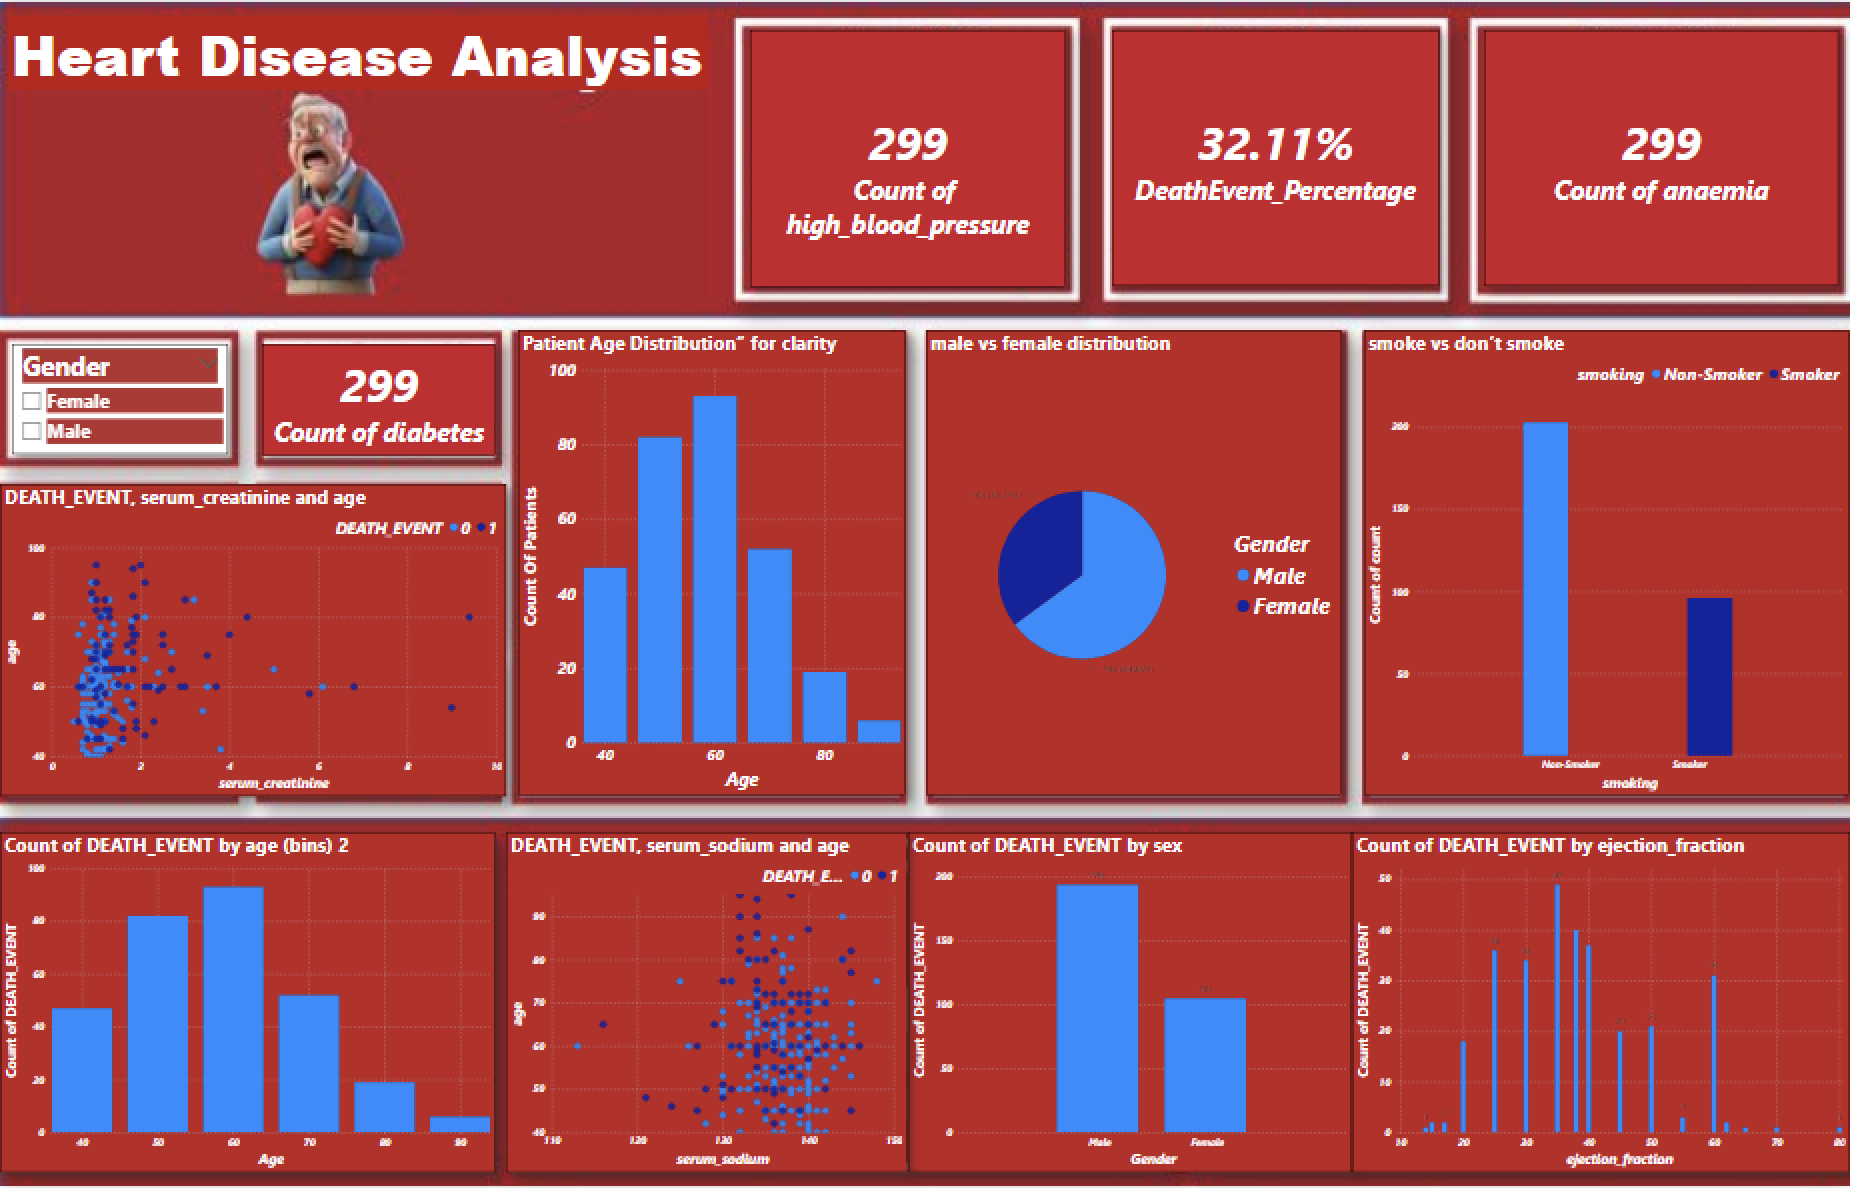

The dashboard page shown, as its layout file describes it:
{"tool":"powerbi","page":{"name":"Page 1","canvas":[2500,1600],"ordinal":0},"visuals":[{"type":"clusteredColumnChart","title":"Patient Age Distribution” for clarity","fields":{"Y":["CountNonNull(heart_Disease_clinical_records_.count)"],"Category":["heart_Disease_clinical_records_.age (bins) 2"]},"box":[700,444.4,524.4,628.9],"z":0},{"type":"pieChart","title":"male vs female distribution","fields":{"Y":["CountNonNull(heart_Disease_clinical_records_.count)"],"Category":["heart_Disease_clinical_records_.sex"]},"box":[1251.1,444.4,562.2,628.9],"z":1000},{"type":"card","fields":{"Values":["CountNonNull(heart_Disease_clinical_records_.anaemia)"]},"box":[2006,37.3,479.1,346.3],"z":2000},{"type":"card","fields":{"Values":["CountNonNull(heart_Disease_clinical_records_.diabetes)"]},"box":[353.1,461.2,316.3,151],"z":3000},{"type":"card","fields":{"Values":["CountNonNull(heart_Disease_clinical_records_.high_blood_pressure)"]},"box":[1013.3,36.7,426.7,346.7],"z":4000},{"type":"clusteredColumnChart","title":"smoke vs don’t smoke","fields":{"Y":["CountNonNull(heart_Disease_clinical_records_.count)"],"Category":["heart_Disease_clinical_records_.smoking"],"Series":["heart_Disease_clinical_records_.smoking"]},"box":[1844.4,444.4,655.6,628.9],"z":5000},{"type":"card","fields":{"Values":["heart_Disease_clinical_records_.DeathEvent_Percentage"]},"box":[1503,37.3,441.8,346.3],"z":6000},{"type":"clusteredColumnChart","fields":{"Y":["CountNonNull(heart_Disease_clinical_records_.DEATH_EVENT)"],"Category":["heart_Disease_clinical_records_.age (bins) 2"]},"box":[0,1122.2,668.9,460],"z":7000},{"type":"clusteredColumnChart","fields":{"Category":["heart_Disease_clinical_records_.sex"],"Y":["CountNonNull(heart_Disease_clinical_records_.DEATH_EVENT)"]},"box":[1226.7,1122.2,600,460],"z":8000},{"type":"clusteredColumnChart","fields":{"Category":["heart_Disease_clinical_records_.ejection_fraction"],"Y":["CountNonNull(heart_Disease_clinical_records_.DEATH_EVENT)"]},"box":[1826.7,1122.2,673.3,460],"z":9000},{"type":"scatterChart","fields":{"X":["heart_Disease_clinical_records_.serum_creatinine"],"Y":["heart_Disease_clinical_records_.age"],"Series":["heart_Disease_clinical_records_.DEATH_EVENT"]},"box":[0,651.1,684.4,422.2],"z":10000},{"type":"scatterChart","fields":{"Y":["heart_Disease_clinical_records_.age"],"Series":["heart_Disease_clinical_records_.DEATH_EVENT"],"X":["heart_Disease_clinical_records_.serum_sodium"]},"box":[684.4,1122.2,542.2,460],"z":11000},{"type":"barChart","fields":{"Series":["heart_Disease_clinical_records_.DEATH_EVENT"],"Y":["CountNonNull(heart_Disease_clinical_records_.diabetes)"],"Category":["heart_Disease_clinical_records_.age"]},"box":[63.3,1836.7,580,386.7],"z":12000},{"type":"barChart","fields":{"Category":["heart_Disease_clinical_records_.age"],"Y":["Sum(heart_Disease_clinical_records_.high_blood_pressure)"],"Series":["heart_Disease_clinical_records_.DEATH_EVENT"]},"box":[723.3,1836.7,580,390],"z":13000},{"type":"columnChart","fields":{"Category":["heart_Disease_clinical_records_.age"],"Y":["Sum(heart_Disease_clinical_records_.ejection_fraction)"],"Series":["heart_Disease_clinical_records_.DEATH_EVENT"]},"box":[1353.3,1836.7,580,390],"z":14000},{"type":"slicer","fields":{"Values":["heart_Disease_clinical_records_.sex"]},"box":[16.3,461.2,291.8,149],"z":15000},{"type":"textbox","title":"Heart Disease Analysis","box":[11.1,20,946.7,100],"z":16000}]}

Visuals, with their boxes in screenshot pixels (x1, y1, x2, y2), scaled from the page's 2500x1600 canvas onto the 1850x1188 screenshot:
"Patient Age Distribution” for clarity" clusteredColumnChart: rect(518, 330, 906, 797)
"male vs female distribution" pieChart: rect(926, 330, 1342, 797)
card - CountNonNull(heart_Disease_clinical_records_.anaemia): rect(1484, 28, 1839, 285)
card - CountNonNull(heart_Disease_clinical_records_.diabetes): rect(261, 342, 495, 455)
card - CountNonNull(heart_Disease_clinical_records_.high_blood_pressure): rect(750, 27, 1066, 285)
"smoke vs don’t smoke" clusteredColumnChart: rect(1365, 330, 1849, 797)
card - heart_Disease_clinical_records_.DeathEvent_Percentage: rect(1112, 28, 1439, 285)
clusteredColumnChart - CountNonNull(heart_Disease_clinical_records_.DEATH_EVENT) x heart_Disease_clinical_records_.age (bins) 2: rect(0, 833, 495, 1175)
clusteredColumnChart - heart_Disease_clinical_records_.sex x CountNonNull(heart_Disease_clinical_records_.DEATH_EVENT): rect(908, 833, 1352, 1175)
clusteredColumnChart - heart_Disease_clinical_records_.ejection_fraction x CountNonNull(heart_Disease_clinical_records_.DEATH_EVENT): rect(1352, 833, 1849, 1175)
scatterChart - heart_Disease_clinical_records_.serum_creatinine x heart_Disease_clinical_records_.age: rect(0, 483, 506, 797)
scatterChart - heart_Disease_clinical_records_.age x heart_Disease_clinical_records_.DEATH_EVENT: rect(506, 833, 908, 1175)
slicer - heart_Disease_clinical_records_.sex: rect(12, 342, 228, 453)
"Heart Disease Analysis" textbox: rect(8, 15, 709, 89)
